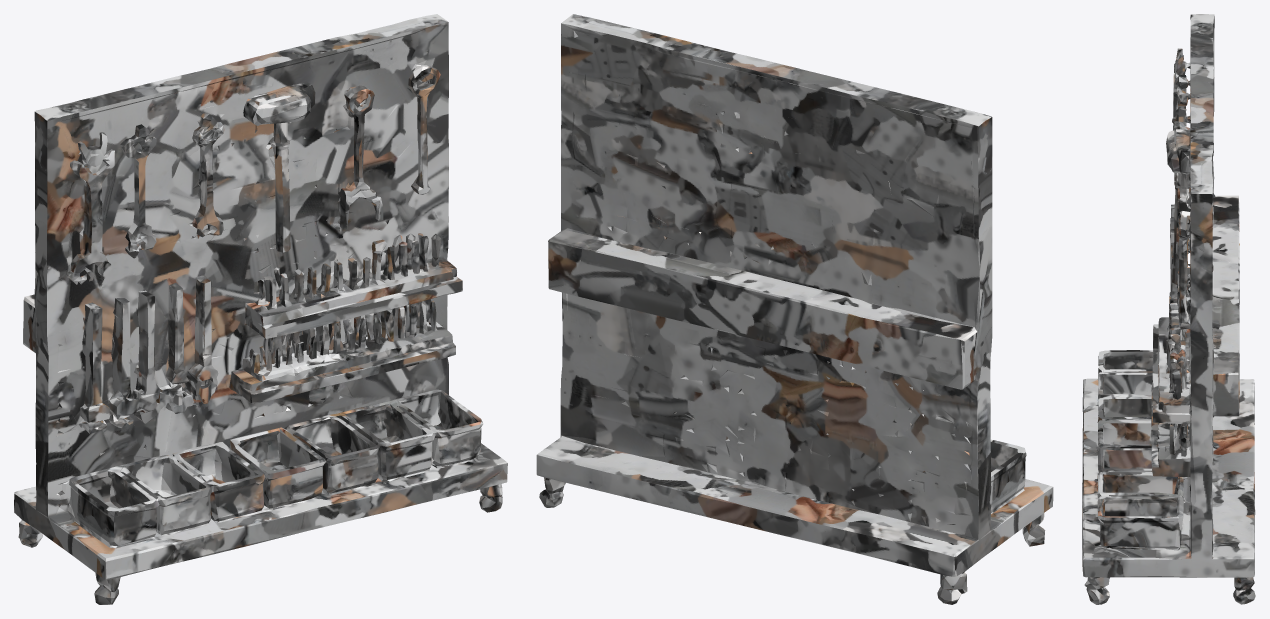
The model's file is ToolC.fbx.
3 views of the same model, side by side, from view 1: azimuth 30°, elevation 25°; view 2: azimuth 150°, elevation 25°; view 3: azimuth 270°, elevation 25° (orthographic). The views are drawn at different scales.
Visible parts, largest first — view 1: Mesh1.0; view 2: Mesh1.0; view 3: Mesh1.0.
Boxes of the visible parts, x1=… form: Mesh1.0: x1=14, y1=14, x2=507, y2=604; Mesh1.0: x1=536, y1=14, x2=1053, y2=604; Mesh1.0: x1=1082, y1=14, x2=1255, y2=604.
Size of the model in its own units: 190 by 201 by 76.32.
